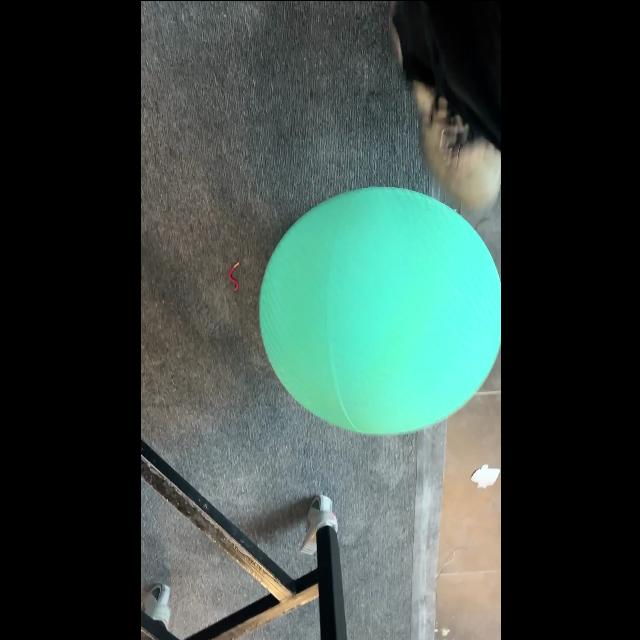ALGAE: (257, 184, 499, 436)
